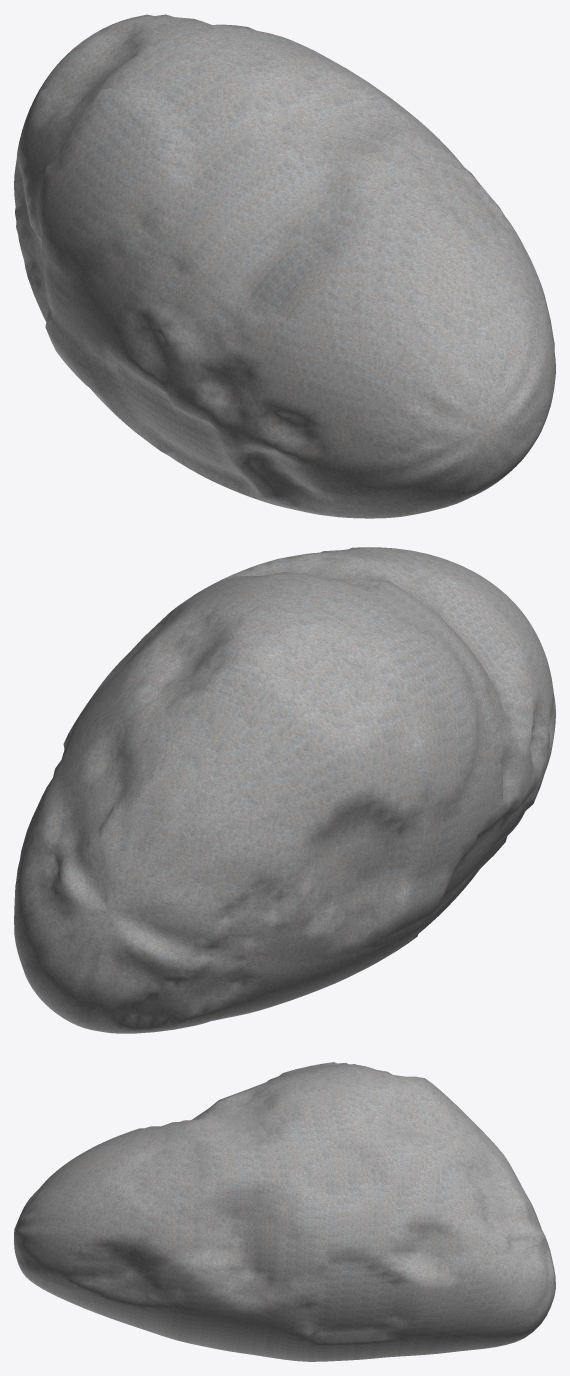
The model's file is comet.obj.
3 renders of one model, top to bottom at view 1: azimuth 30°, elevation 25°; view 2: azimuth 150°, elevation 25°; view 3: azimuth 270°, elevation 25°, orthographic. The views are drawn at different scales.
Visible parts, largest first — view 1: Mesh1 mesh01_1 Model; view 2: Mesh1 mesh01_1 Model; view 3: Mesh1 mesh01_1 Model.
Part boxes in pixels (bbox=[...]): Mesh1 mesh01_1 Model: bbox=[14, 14, 555, 518]; Mesh1 mesh01_1 Model: bbox=[14, 547, 555, 1033]; Mesh1 mesh01_1 Model: bbox=[14, 1062, 555, 1361].
Size of the model in its own units: 35.58 by 36.49 by 67.73.
1 material, 1 textured.
